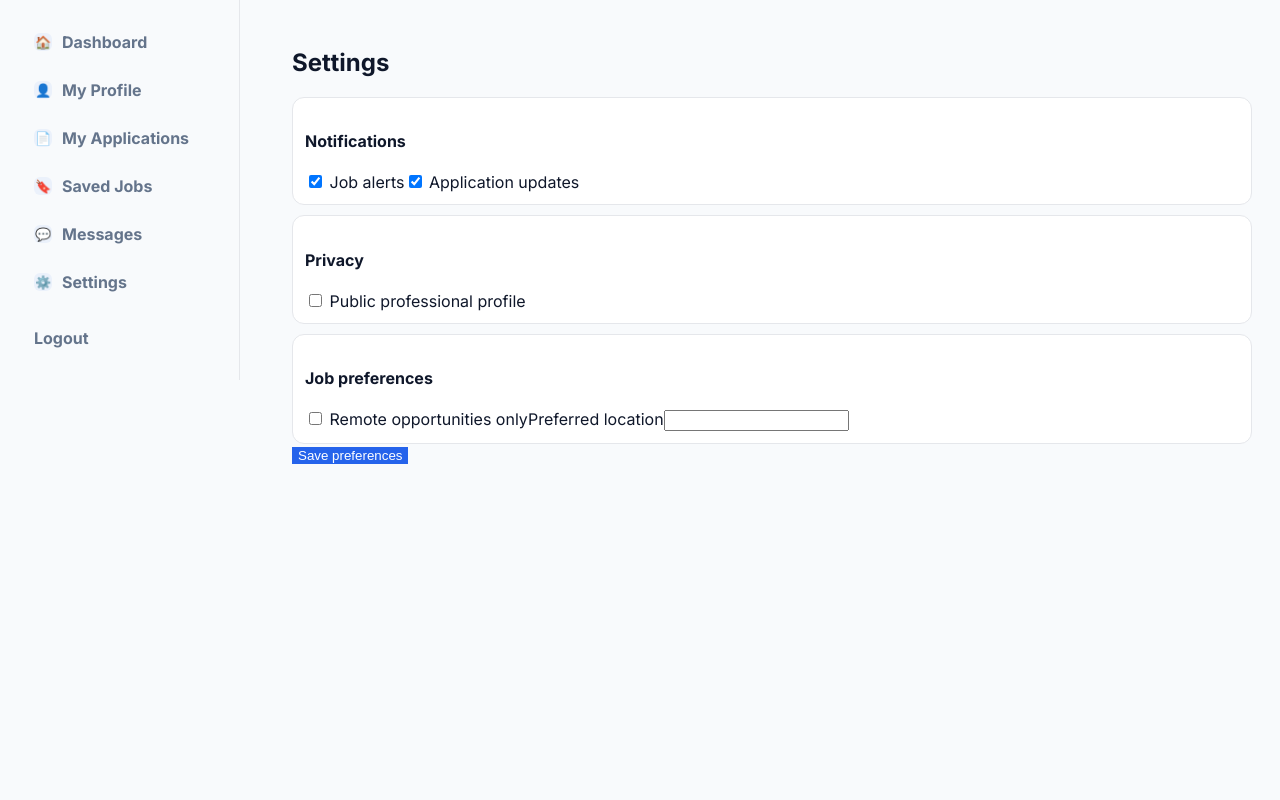
Test: Settings › persists updated account preferences
Click the checkbox labelled "Remote opportunities only": [316, 419] box [309, 412, 322, 425]
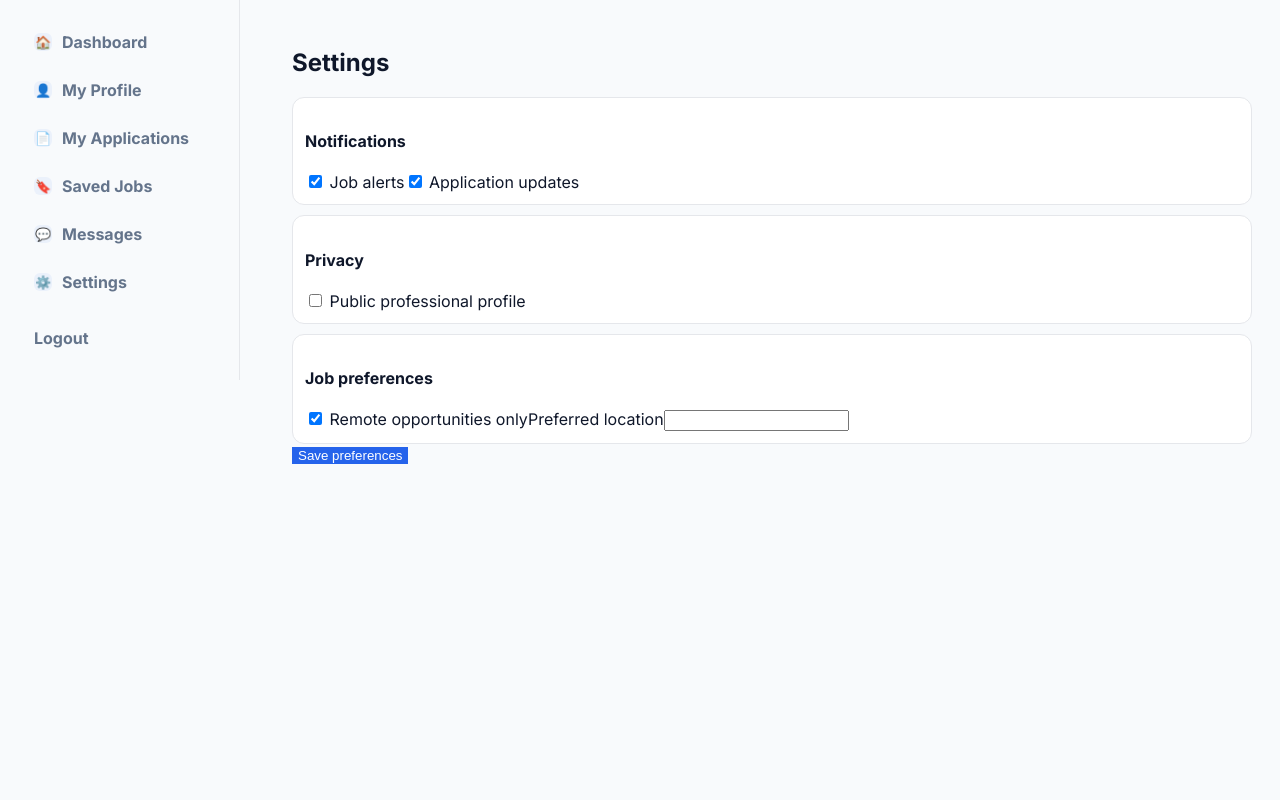
In the field labelled "Preferred location": [756, 421] box [664, 410, 849, 431], type "Barcelona"
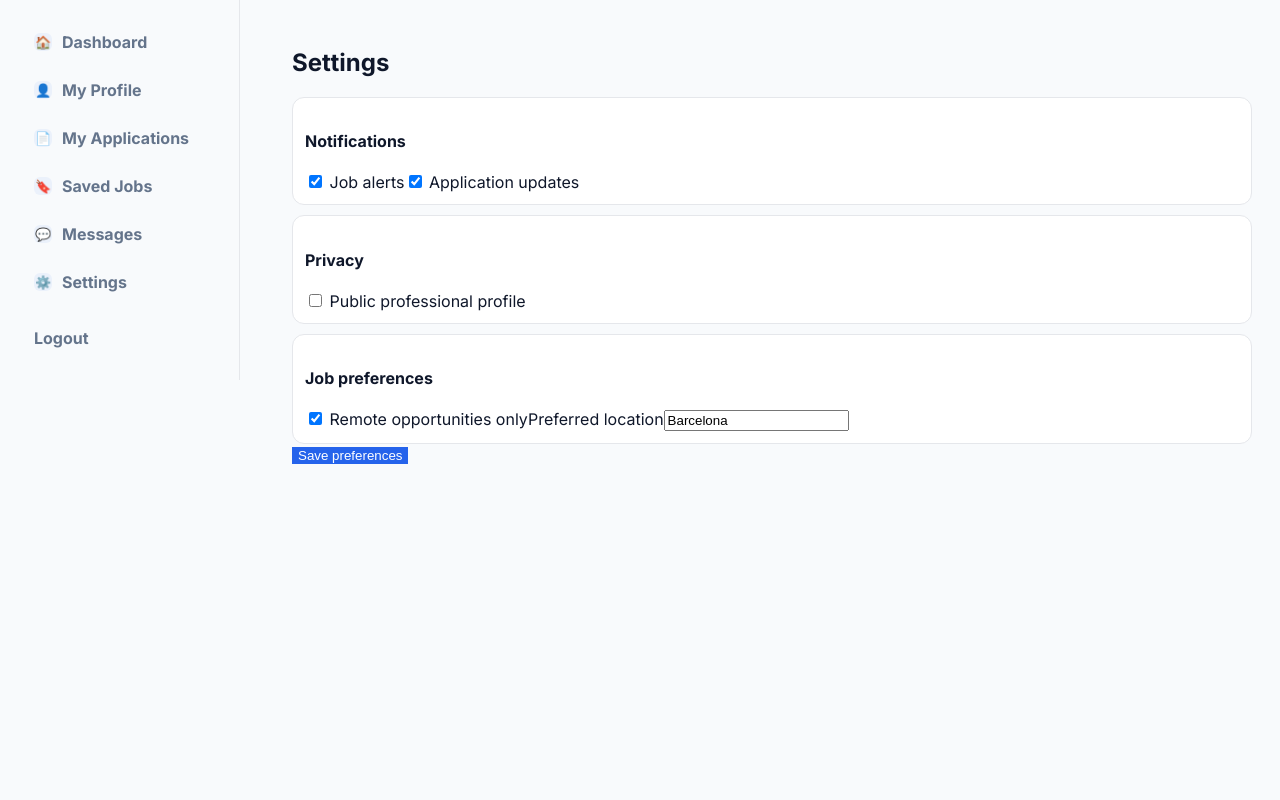
Click the button "Save preferences": [350, 456] box [292, 447, 408, 464]
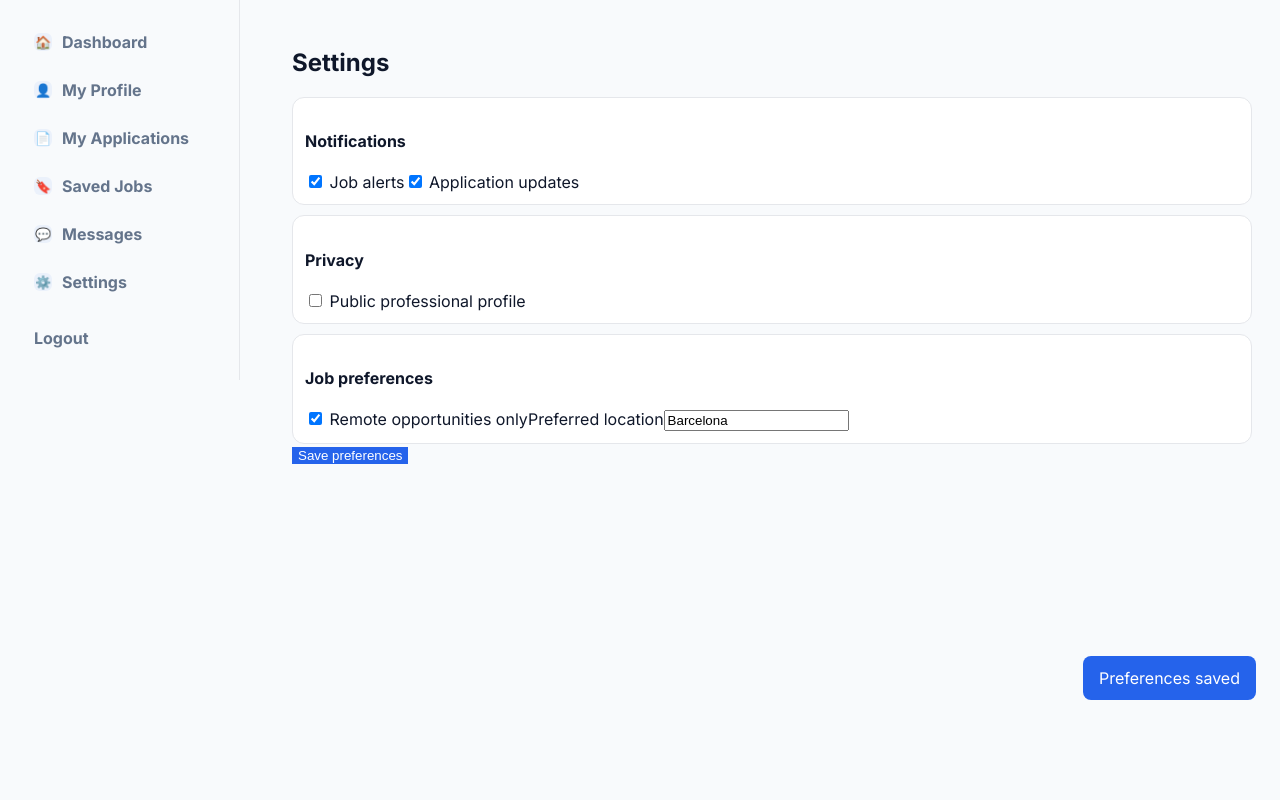
Check: the text "Preferences saved" is shown, box [1083, 656, 1256, 700]
